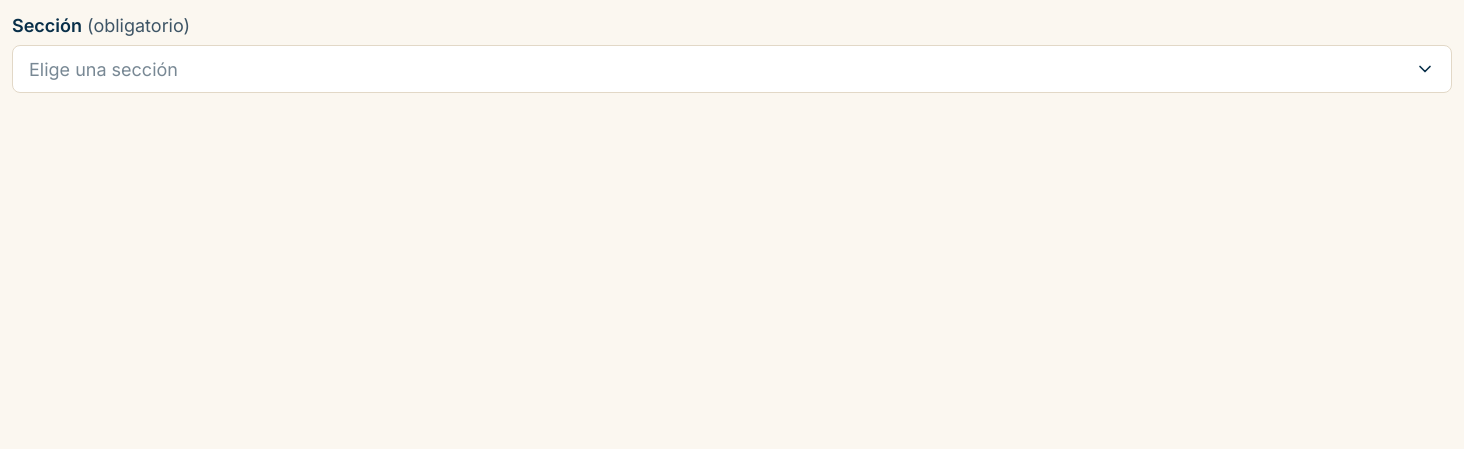
Test case: SectionPicker › crea una sección nueva y la deja elegida; después aparece en la lista
The width and height of the screenshot is (1464, 449).
Click the button "Elige una sección".
click(103, 69)  # box left=12, top=45, right=1452, bottom=93
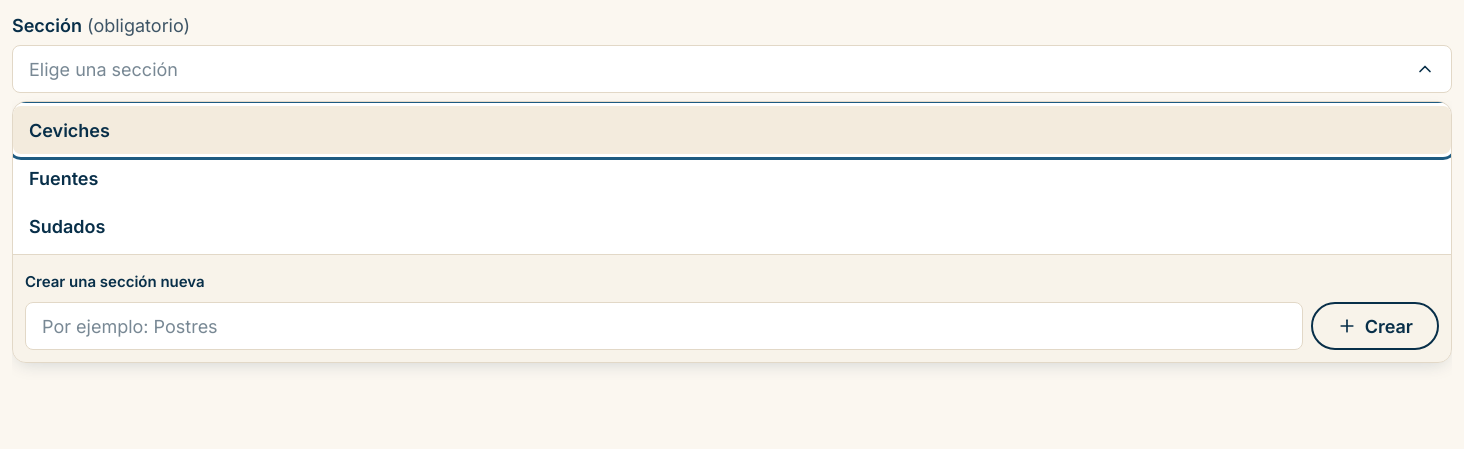
Type "postres" into the field labelled "Crear una sección nueva".
click(664, 326); type("postres")  # box left=25, top=302, right=1303, bottom=350
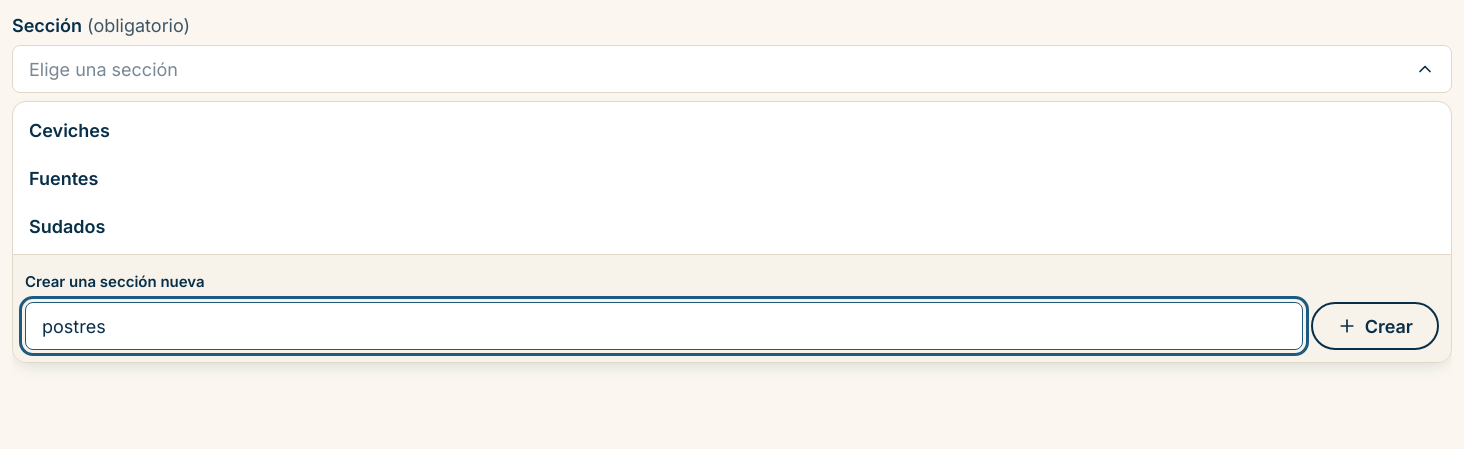
Click the button "Crear".
click(1375, 326)  # box left=1311, top=302, right=1439, bottom=350
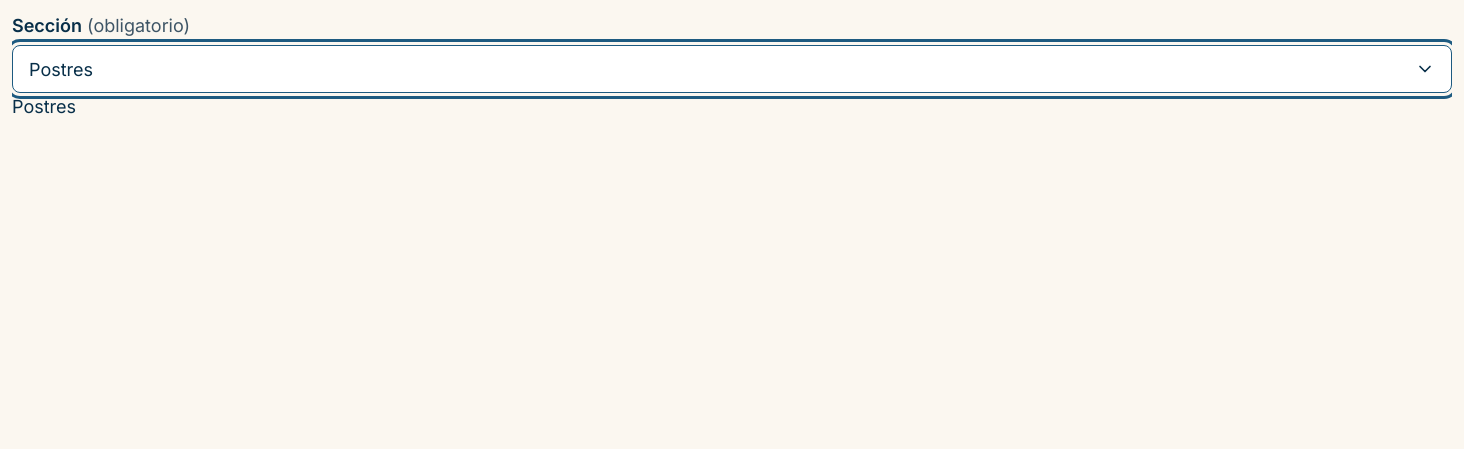
expect the text with test id "valor" reads "Postres": met, box left=12, top=96, right=76, bottom=117
Click the button named "Sección".
click(61, 69)  # box left=12, top=45, right=1452, bottom=93
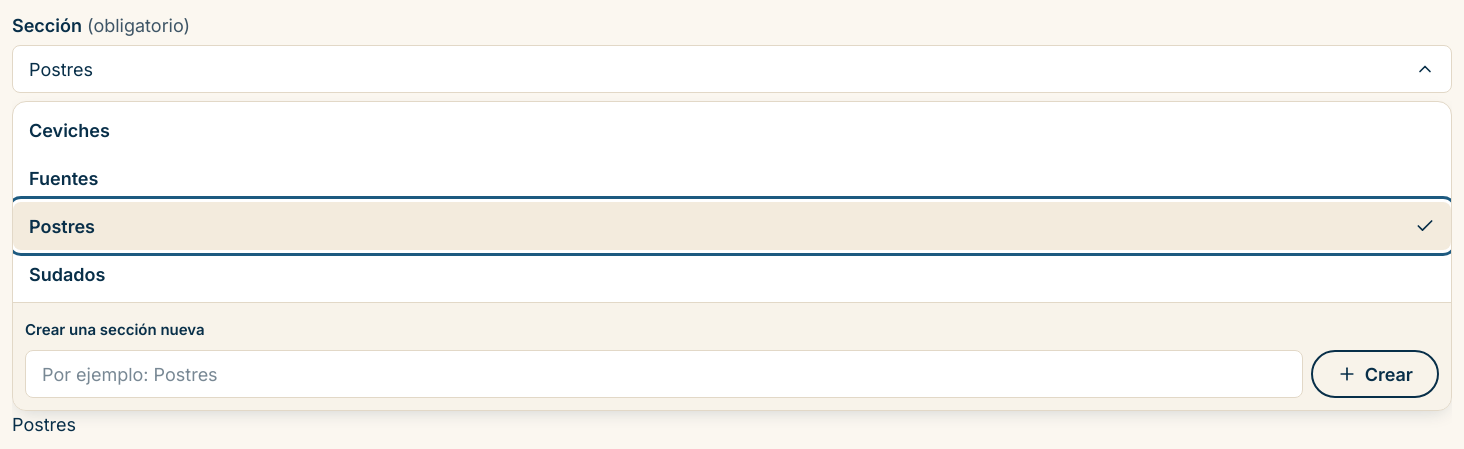
expect the option "Postres" is shown: met, box left=13, top=202, right=1451, bottom=250
